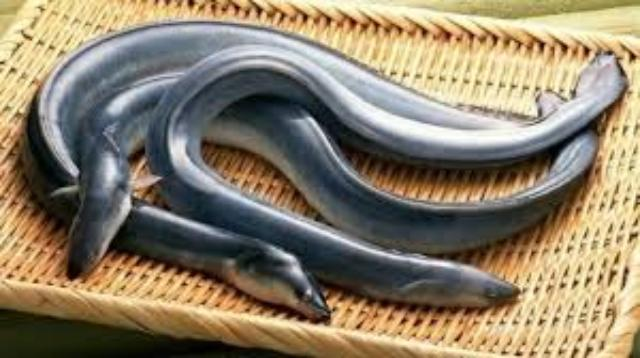Mulut: (287, 288, 345, 340)
Sirip Ekor: (559, 46, 635, 128)
